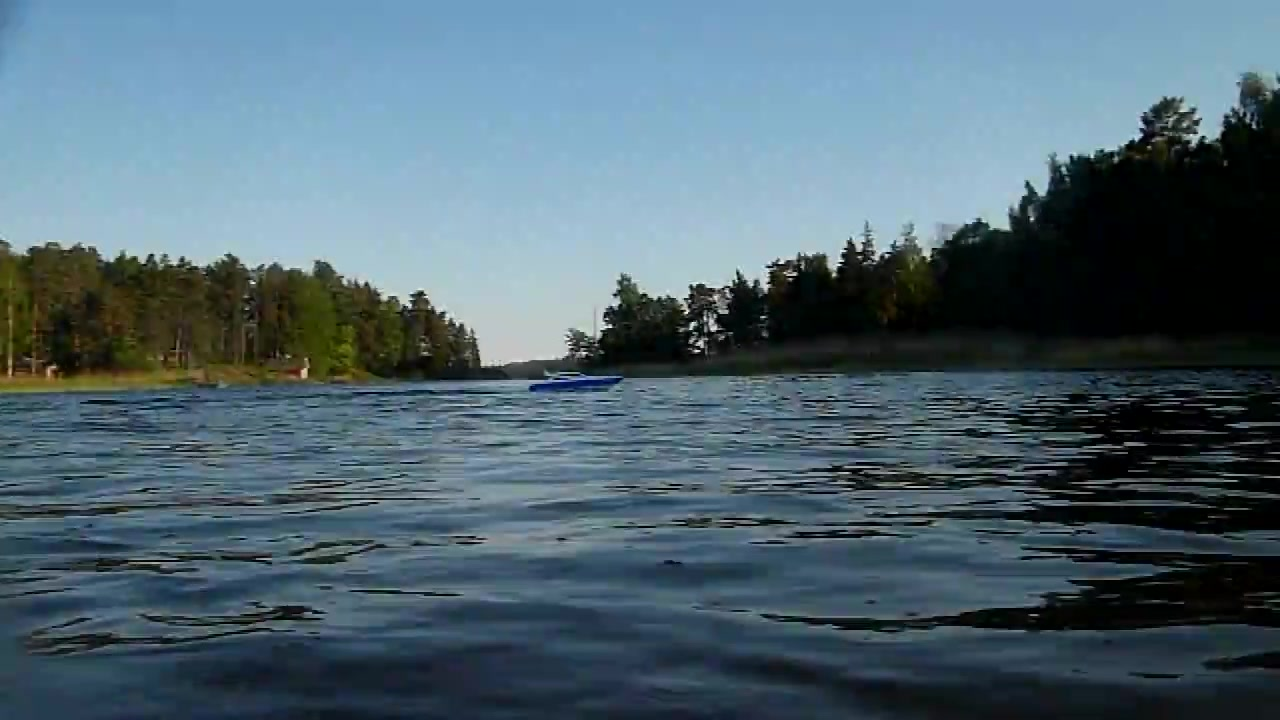boat: (526, 369, 630, 399)
